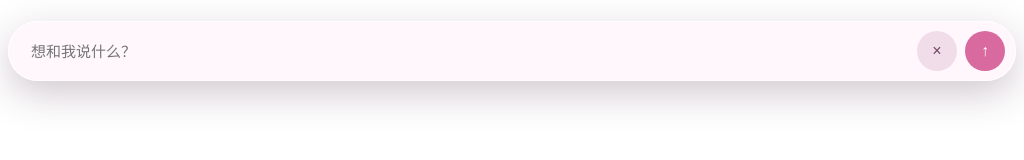
Test case: ChatComposer › submits trimmed text and clears the input
In the field named "给希莉尔发消息": (469, 51) [29, 42, 909, 60], type "  今天过得怎么样？  "
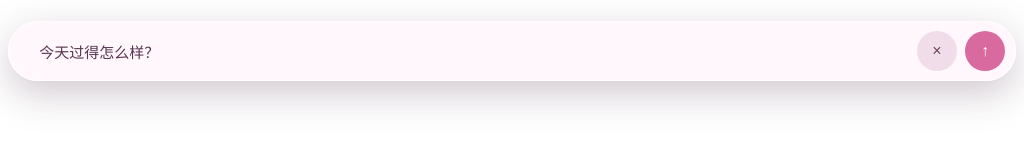
Submit the form named "给希莉尔发消息", box [8, 21, 1016, 81]
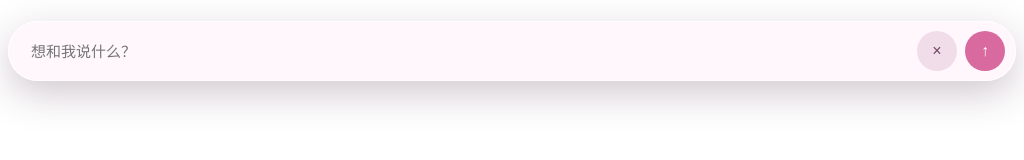
Result: the field named "给希莉尔发消息" is empty at [29, 42, 909, 60]
